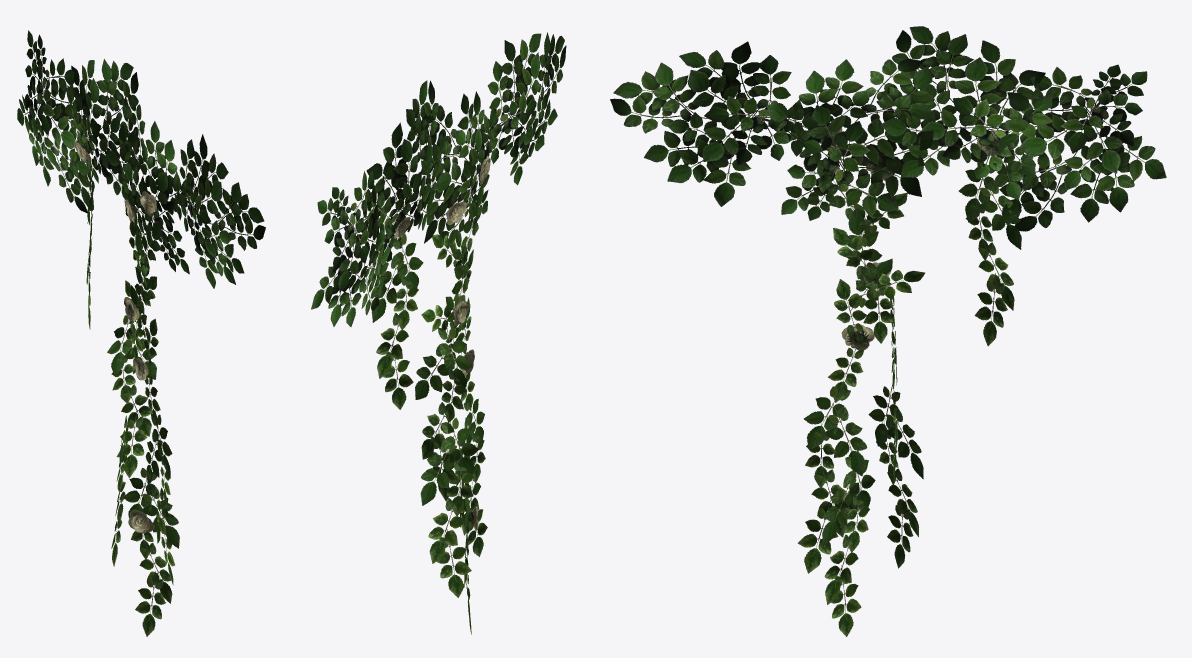
The model's file is GS_NATURE_ROSE_WHITE_02.glb.
The picture shows the model from 3 angles, left to right: view 1: azimuth 30°, elevation 25°; view 2: azimuth 150°, elevation 25°; view 3: azimuth 270°, elevation 25°; orthographic projection. The views are drawn at different scales.
Parts seen in each view (by area): view 1: Mesh; view 2: Mesh; view 3: Mesh.
Part boxes in pixels (x1,y1,x2,y2): Mesh: (17, 30, 265, 636); Mesh: (311, 32, 566, 634); Mesh: (610, 26, 1166, 636).
Size of the model in its own units: 0.3953 by 2.9 by 2.4.
Materials: 1 (1 with a texture image).
